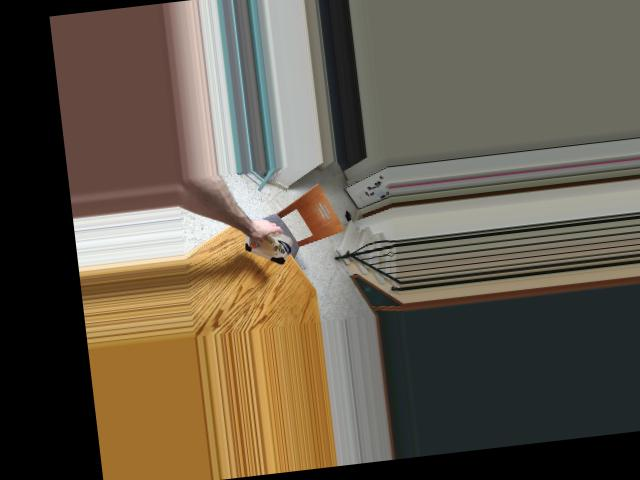cheese: (238, 216, 294, 268)
